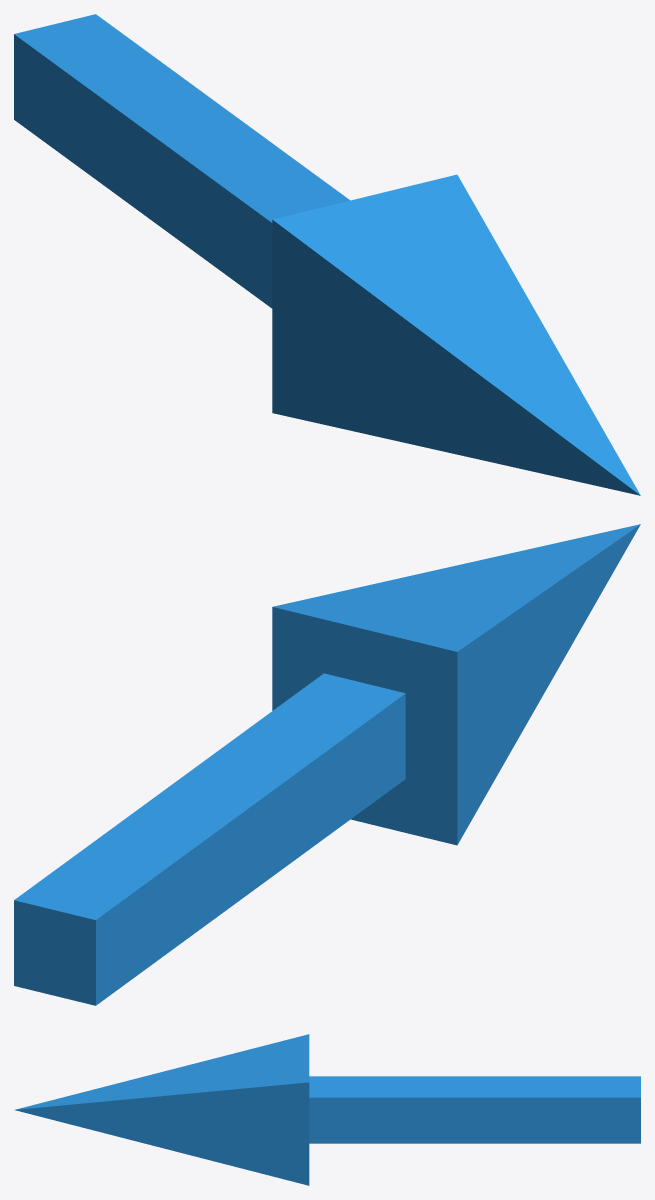
File: transformgizmoZ.glb
3 views of the same model, one above another, from view 1: azimuth 30°, elevation 25°; view 2: azimuth 150°, elevation 25°; view 3: azimuth 270°, elevation 25° (orthographic). The views are drawn at different scales.
Parts seen in each view (by area): view 1: Cube; view 2: Cube; view 3: Cube.
Part boxes in pixels (bbox=[...]): Cube: bbox=[14, 14, 640, 495]; Cube: bbox=[14, 524, 640, 1005]; Cube: bbox=[15, 1034, 640, 1185].
Size of the model in its own units: 0.1911 by 0.1911 by 1.05.
Materials: 1 (1 with a texture image).
